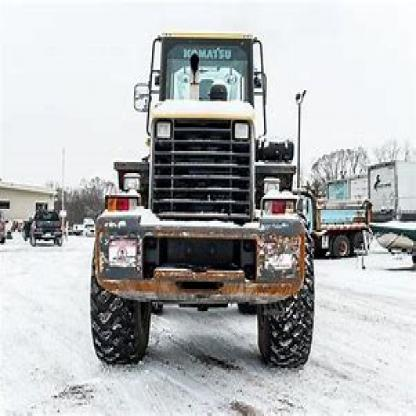bull_dozer/loader/grader: (82, 20, 330, 383)
